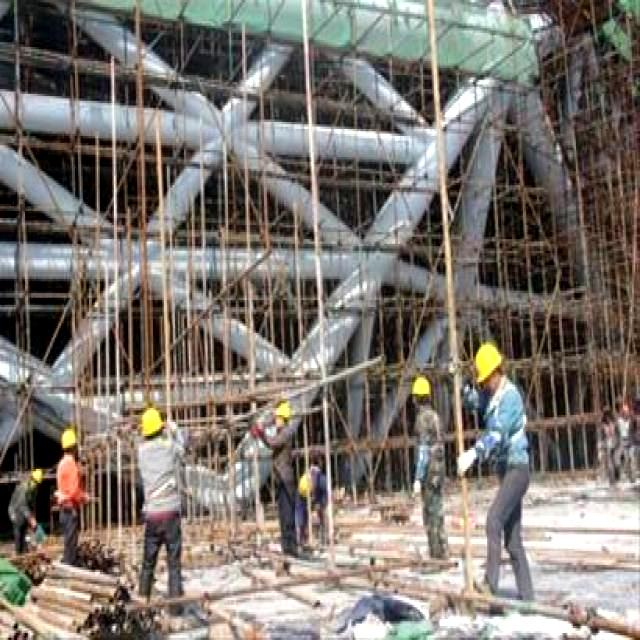hard_hat: (475, 342, 501, 382), (140, 406, 164, 436), (411, 375, 429, 399), (61, 429, 73, 445)
person: (459, 342, 531, 598), (137, 406, 184, 595), (412, 377, 446, 558), (56, 429, 84, 563)
